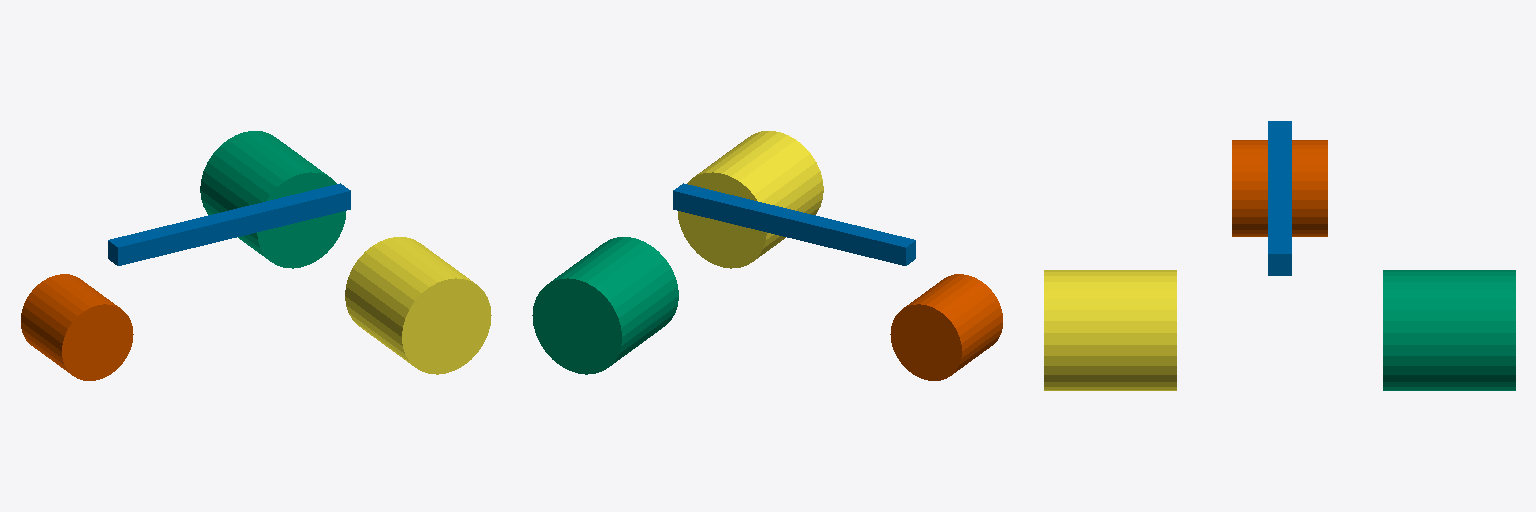
The robot description file, URDF, robot "crawler":
<?xml version="1.0" ?>
<!-- =================================================================================== -->
<!-- |    This document was autogenerated by xacro from crawler.xacro                  | -->
<!-- |    EDITING THIS FILE BY HAND IS NOT RECOMMENDED                                 | -->
<!-- =================================================================================== -->
<robot name="crawler">
  <!-- Base Footprint -->
  <link name="base_footprint">
    <origin rpy="0 0 0" xyz="0 0 0"/>
  </link>
  <!--Base link for the main body-->
  <link name="base_link">
    <origin rpy="0 0 0" xyz="0 0 0"/>
    <inertial>
      <mass value="2"/>
      <inertia ixx="0.008333" ixy="0.0" ixz="0.0" iyy="0.008333" iyz="0.0" izz="0.0133333"/>
    </inertial>
    <collision>
      <geometry>
        <box size="0.2 0.2 0.05"/>
      </geometry>
    </collision>
  </link>
  <!--base_link to base_footprint Joint-->
  <joint name="base_link_joint" type="fixed">
    <origin rpy="0 0 0" xyz="0 0 0.0425"/>
    <parent link="base_footprint"/>
    <child link="base_link"/>
  </joint>
  <link name="left_front_wheel">
    <collision>
      <origin rpy="1.570796326795 0 0" xyz="0 0 0"/>
      <geometry>
        <!-- <mesh filename="./crawler_front_wheel_filet.stl" /> -->
        <cylinder length="0.055" radius="0.025"/>
      </geometry>
    </collision>
    <visual>
      <origin rpy="1.570796326795 0 0" xyz="0 0 0"/>
        <geometry>
	        <!-- <mesh filename="./crawler_front_wheel_filet.stl"/>	 -->
          <cylinder length="0.055" radius="0.025"/>
      </geometry>
    </visual>
    <surface>
      <friction>
        <ode>
          <mu>1.0</mu>
          <mu2>1.0</mu2>
        </ode>
      </friction>
    </surface>
    <inertial>
      <mass value="0.8"/>
      <inertia ixx="0.0003266666666666667" ixy="0" ixz="0" iyy="0.0003266666666666667" iyz="0" izz="0.00025000000000000006"/>
    </inertial>
  </link>
  <joint name="left_front_wheel_joint" type="continuous">
    <axis rpy="0 0 0" xyz="0 1 0"/>
    <parent link="base_link"/>
    <child link="left_front_wheel"/>
    <origin rpy="0 0 0" xyz="0.0 0.07 -0.03"/>
  </joint>
  <link name="right_front_wheel">
    <collision>
      <origin rpy="1.570796326795 0 0" xyz="0 0 0"/>
      <geometry>
        <!-- <mesh filename="./crawler_front_wheel_filet.stl" /> -->
        <cylinder length="0.055" radius="0.025"/>
      </geometry>
    </collision>
    <visual>
      <origin rpy="1.570796326795 0 0" xyz="0 0 0"/>
      <geometry>
        <!-- <mesh filename="./crawler_front_wheel_filet.stl" /> -->
        <cylinder length="0.055" radius="0.025"/>
      </geometry>
    </visual>
    <surface>
      <friction>
        <ode>
          <mu>1.0</mu>
          <mu2>1.0</mu2>
        </ode>
      </friction>
    </surface>
    <inertial>
      <mass value="0.8"/>
      <inertia ixx="0.0003266666666666667" ixy="0" ixz="0" iyy="0.0003266666666666667" iyz="0" izz="0.00025000000000000006"/>
    </inertial>
  </link>
  <joint name="right_front_wheel_joint" type="continuous">
    <axis rpy="0 0 0" xyz="0 1 0"/>
    <parent link="base_link"/>
    <child link="right_front_wheel"/>
    <origin rpy="0 0 0" xyz="0.0 -0.07 -0.03"/>
  </joint>
  <!--Caster Wheel Joint-->
  <joint name="caster_wheel_base_joint" type="continuous">
    <axis rpy="0 0 0" xyz="0 0 1"/>
    <parent link="base_link"/>
    <child link="caster_wheel_base"/>
    <origin rpy="0 0 0" xyz="-0.13 0.0 0"/>
  </joint>
  <!--Caster Wheel Link-->
  <link name="caster_wheel_base">
    <origin rpy="0 0 0" xyz="0.0 0.0 0.0"/>
    <visual>
      <origin rpy="0 0 0" xyz="0.065 0 0"/>
      <geometry>
        <box size="0.13 0.01 0.01"/>
      </geometry>
    </visual>
    <inertial>
      <mass value="0.2"/>
      <inertia ixx="3.3333333333333334e-08" ixy="0.0" ixz="0.0" iyy="3.3333333333333334e-08" iyz="0.0" izz="3.3333333333333334e-08"/>
    </inertial>
  </link>
  <joint name="caster_wheel_joint" type="continuous">
    <axis rpy="0 0 0" xyz="0 1 0"/>
    <parent link="caster_wheel_base"/>
    <child link="caster_wheel"/>
    <origin rpy="0 0 0" xyz="-0.02 0 -0.035"/>
  </joint>
  <link name="caster_wheel">
    <collision>
      <origin rpy="1.570796326795 0 0" xyz="0 0 0"/>
      <geometry>
        <!-- <mesh filename="./crawler_caster_wheel_filet.stl" /> -->
        <cylinder length="0.04" radius="0.02"/>
      </geometry>
    </collision>
    <visual>
      <origin rpy="1.570796326795 0 0" xyz="0 0 0"/>
      <geometry>
        <!-- <mesh filename="./crawler_caster_wheel_filet.stl" /> -->
        <cylinder length="0.04" radius="0.02"/>
      </geometry>
    </visual>
    <surface>
      <friction>
        <ode>
          <mu>1.0</mu>
          <mu2>1.0</mu2>
        </ode>
      </friction>
    </surface>
    <inertial>
      <mass value="0.5"/>
      <inertia ixx="0.00011666666666666667" ixy="0" ixz="0" iyy="0.00011666666666666667" iyz="0" izz="0.0001"/>
    </inertial>
  </link>
</robot>

--- Facts derived from the render (not from the file) ---
Views: 3 orthographic renders of the robot side by side, from view 1: azimuth 30°, elevation 25°; view 2: azimuth 150°, elevation 25°; view 3: azimuth 270°, elevation 25°.
Model crawler with 6 links and 5 joints (4 continuous, 1 fixed), rooted at base_footprint, posed every joint at zero.
Links seen in each view (by area): view 1: right_front_wheel, left_front_wheel, caster_wheel, caster_wheel_base; view 2: left_front_wheel, right_front_wheel, caster_wheel, caster_wheel_base; view 3: left_front_wheel, right_front_wheel, caster_wheel, caster_wheel_base.
Link boxes in pixels (x1,y1,x2,y2): right_front_wheel: (345, 237, 491, 374); left_front_wheel: (200, 131, 345, 268); caster_wheel: (21, 274, 133, 380); caster_wheel_base: (108, 183, 350, 265); left_front_wheel: (532, 237, 678, 374); right_front_wheel: (678, 131, 823, 268); caster_wheel: (890, 274, 1002, 380); caster_wheel_base: (673, 183, 915, 265); left_front_wheel: (1383, 270, 1515, 390); right_front_wheel: (1044, 270, 1176, 390); caster_wheel: (1232, 140, 1327, 236); caster_wheel_base: (1268, 121, 1291, 275).
Bounding box of the posed robot: 0.195 × 0.195 × 0.06 m (x, y, z).
Geometry: primitives only (box / cylinder / sphere), no mesh files.